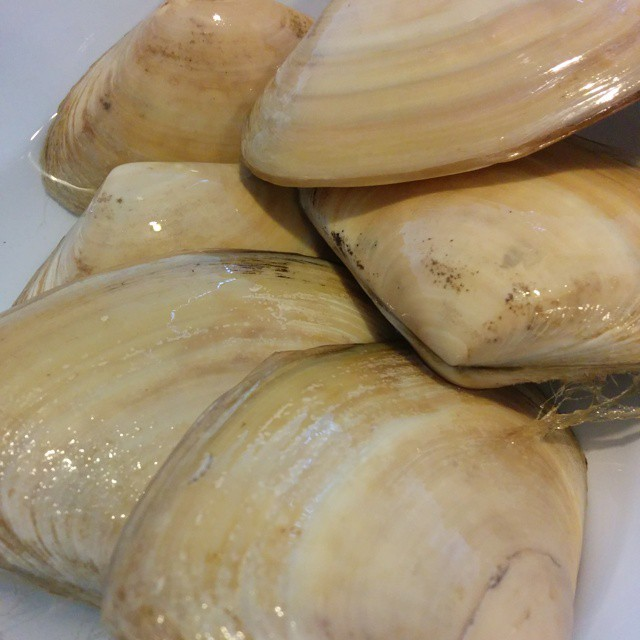tuatua: (97, 339, 590, 640), (1, 253, 373, 595), (301, 143, 640, 392), (236, 1, 640, 195), (33, 1, 313, 221), (19, 157, 319, 269)
